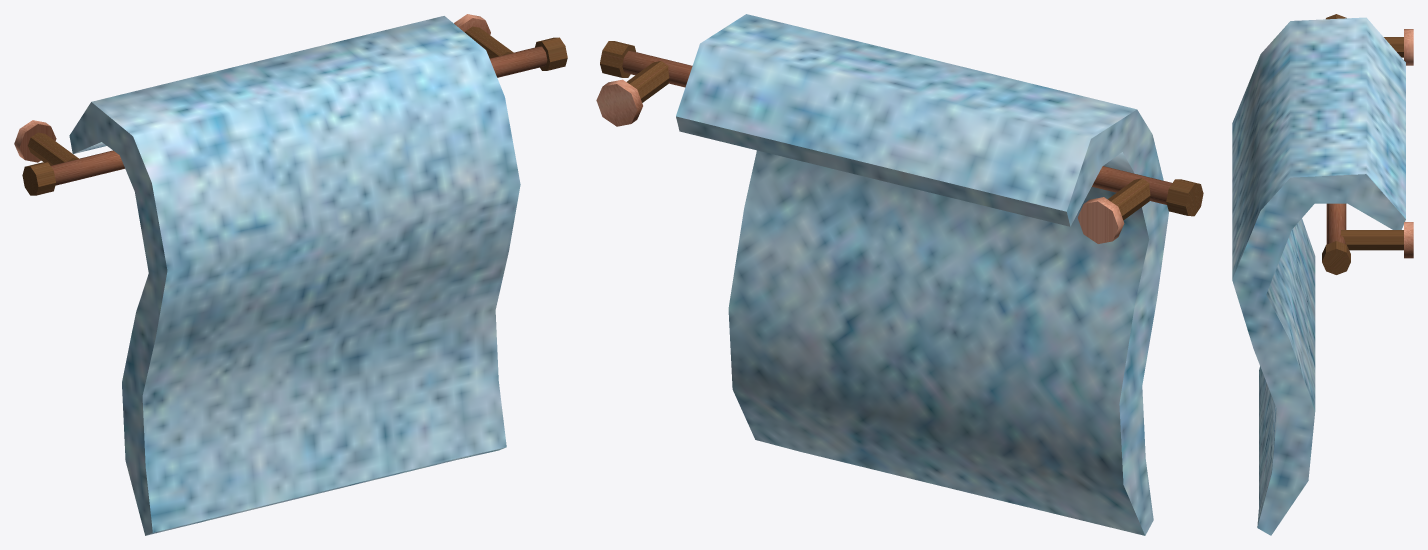
Rendered from tower hanger.FBX.
3 views of the same model, side by side, from view 1: azimuth 30°, elevation 25°; view 2: azimuth 150°, elevation 25°; view 3: azimuth 270°, elevation 25° (orthographic). The views are drawn at different scales.
Visible parts, largest first — view 1: Box001, Cylinder002, Object002, Object001, Cylinder003; view 2: Box001, Cylinder003, Cylinder002, Object001, Object002; view 3: Box001, Object001, Object002, Cylinder002, Cylinder003.
Boxes of the visible parts, box(x1,y1,x2,y2) form: Box001: box(69, 16, 520, 535); Cylinder002: box(51, 46, 547, 185); Object002: box(22, 37, 567, 195); Object001: box(27, 26, 513, 165); Cylinder003: box(14, 14, 490, 162); Box001: box(676, 14, 1169, 535); Cylinder003: box(596, 79, 1124, 243); Cylinder002: box(622, 51, 1172, 204); Object001: box(627, 61, 1150, 220); Object002: box(600, 41, 1203, 216); Box001: box(1232, 17, 1405, 535); Object001: box(1341, 37, 1403, 250); Object002: box(1322, 14, 1350, 274); Cylinder002: box(1326, 203, 1346, 244); Cylinder003: box(1404, 29, 1413, 258).
Size of the model in its own units: 134 by 95.71 by 43.65.
3 materials, 3 textured.
